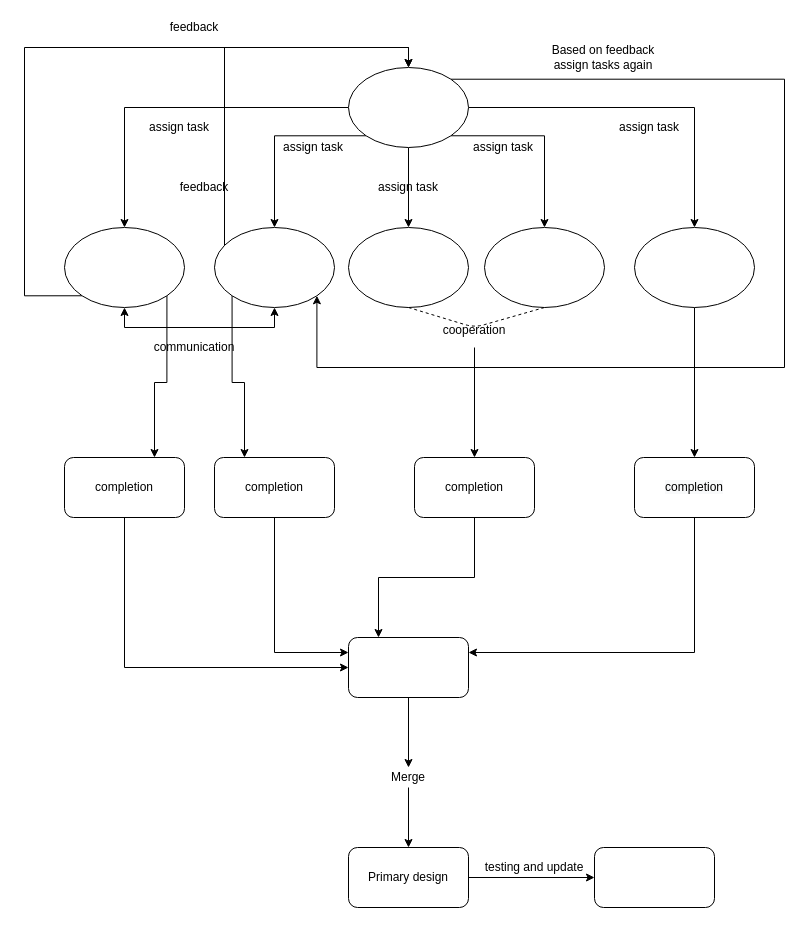
This 810x925 diagram has some shape labels left out. The shapes that lost their labels are listed below. From the top down, each one's centre as x and y in pixels, then its label:
At (408,107): "leader".
At (654,877): "Final design".
